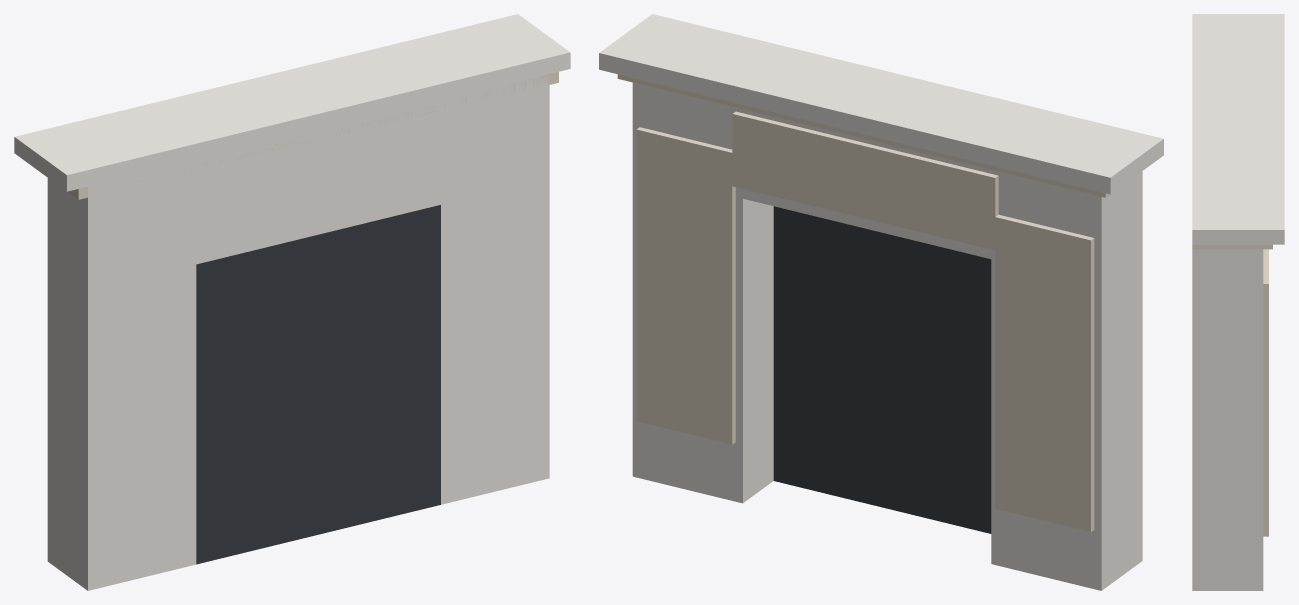
Rendered from SM_LPI_Struct_Fireplace_01.fbx.
The picture shows the model from 3 angles, left to right: view 1: azimuth 30°, elevation 25°; view 2: azimuth 150°, elevation 25°; view 3: azimuth 270°, elevation 25°; orthographic projection. The views are drawn at different scales.
Visible parts, largest first — view 1: SM_LPI_Struct_Fireplace_01; view 2: SM_LPI_Struct_Fireplace_01; view 3: SM_LPI_Struct_Fireplace_01.
Part boxes in pixels (<box>): SM_LPI_Struct_Fireplace_01: <box>14,14,570,590</box>; SM_LPI_Struct_Fireplace_01: <box>599,14,1163,590</box>; SM_LPI_Struct_Fireplace_01: <box>1192,14,1284,590</box>.
Size of the model in its own units: 1.44 by 1.15 by 0.26.
